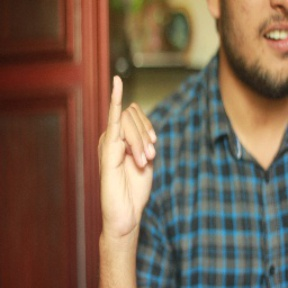I: (97, 73, 158, 220)
